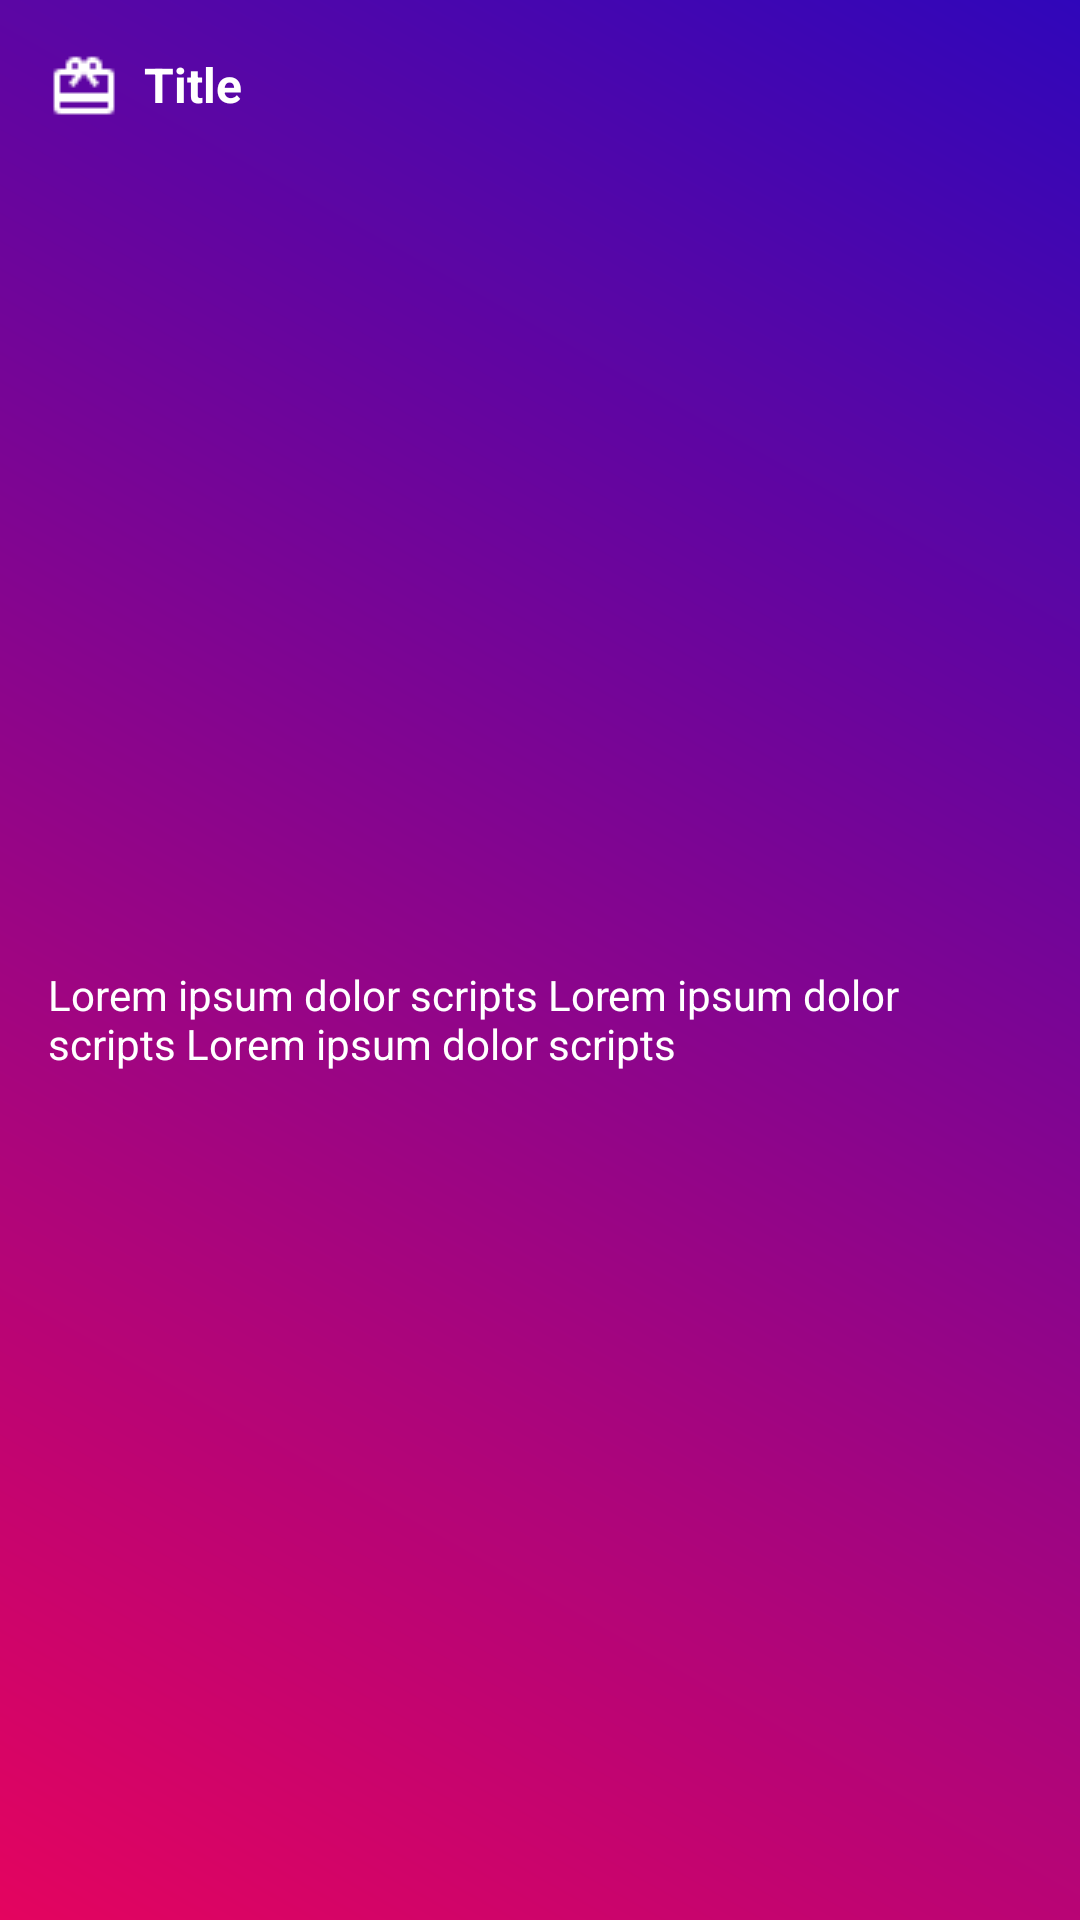

Icon click points for this 1080x1920 phone screenshot, format point (x, y):
rewards: point (84, 85)
